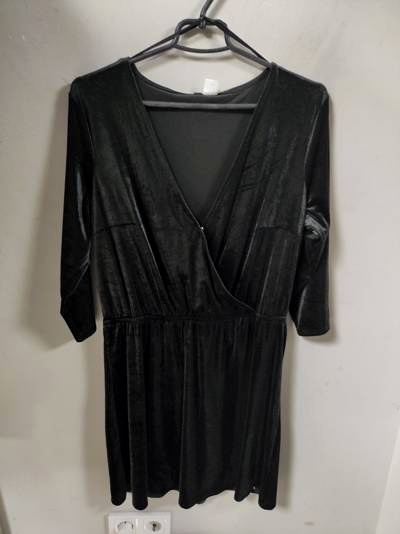Dress: (37, 46, 380, 493)
